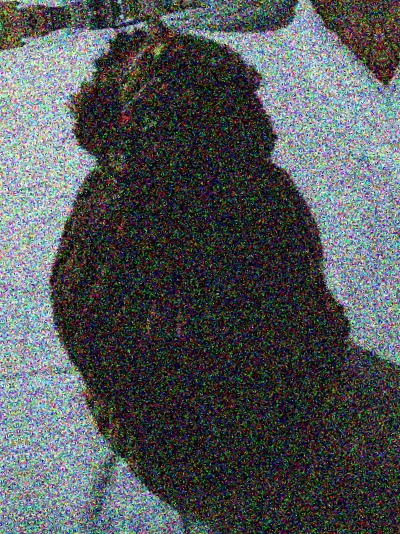Hat: (0, 0, 395, 478), (0, 0, 328, 10)
